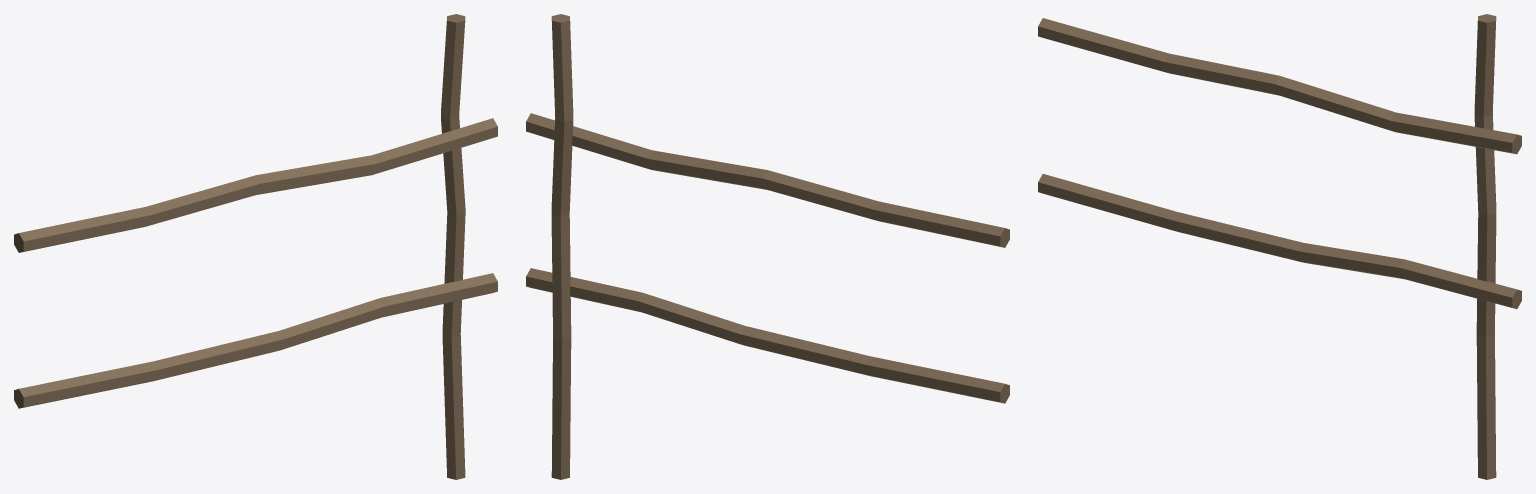
The model's file is fence_a_1m_02.FBX.
3 views of the same model, side by side, from view 1: azimuth 30°, elevation 25°; view 2: azimuth 150°, elevation 25°; view 3: azimuth 330°, elevation 25° (orthographic).
Visible parts, largest first — view 1: fence_a_1m_02; view 2: fence_a_1m_02; view 3: fence_a_1m_02.
Boxes of the visible parts, x1=… form: fence_a_1m_02: x1=14, y1=14, x2=497, y2=479; fence_a_1m_02: x1=526, y1=14, x2=1009, y2=479; fence_a_1m_02: x1=1038, y1=14, x2=1521, y2=479.
Bounding box in the file's own units: 1.16 × 1.07 × 0.0624.
